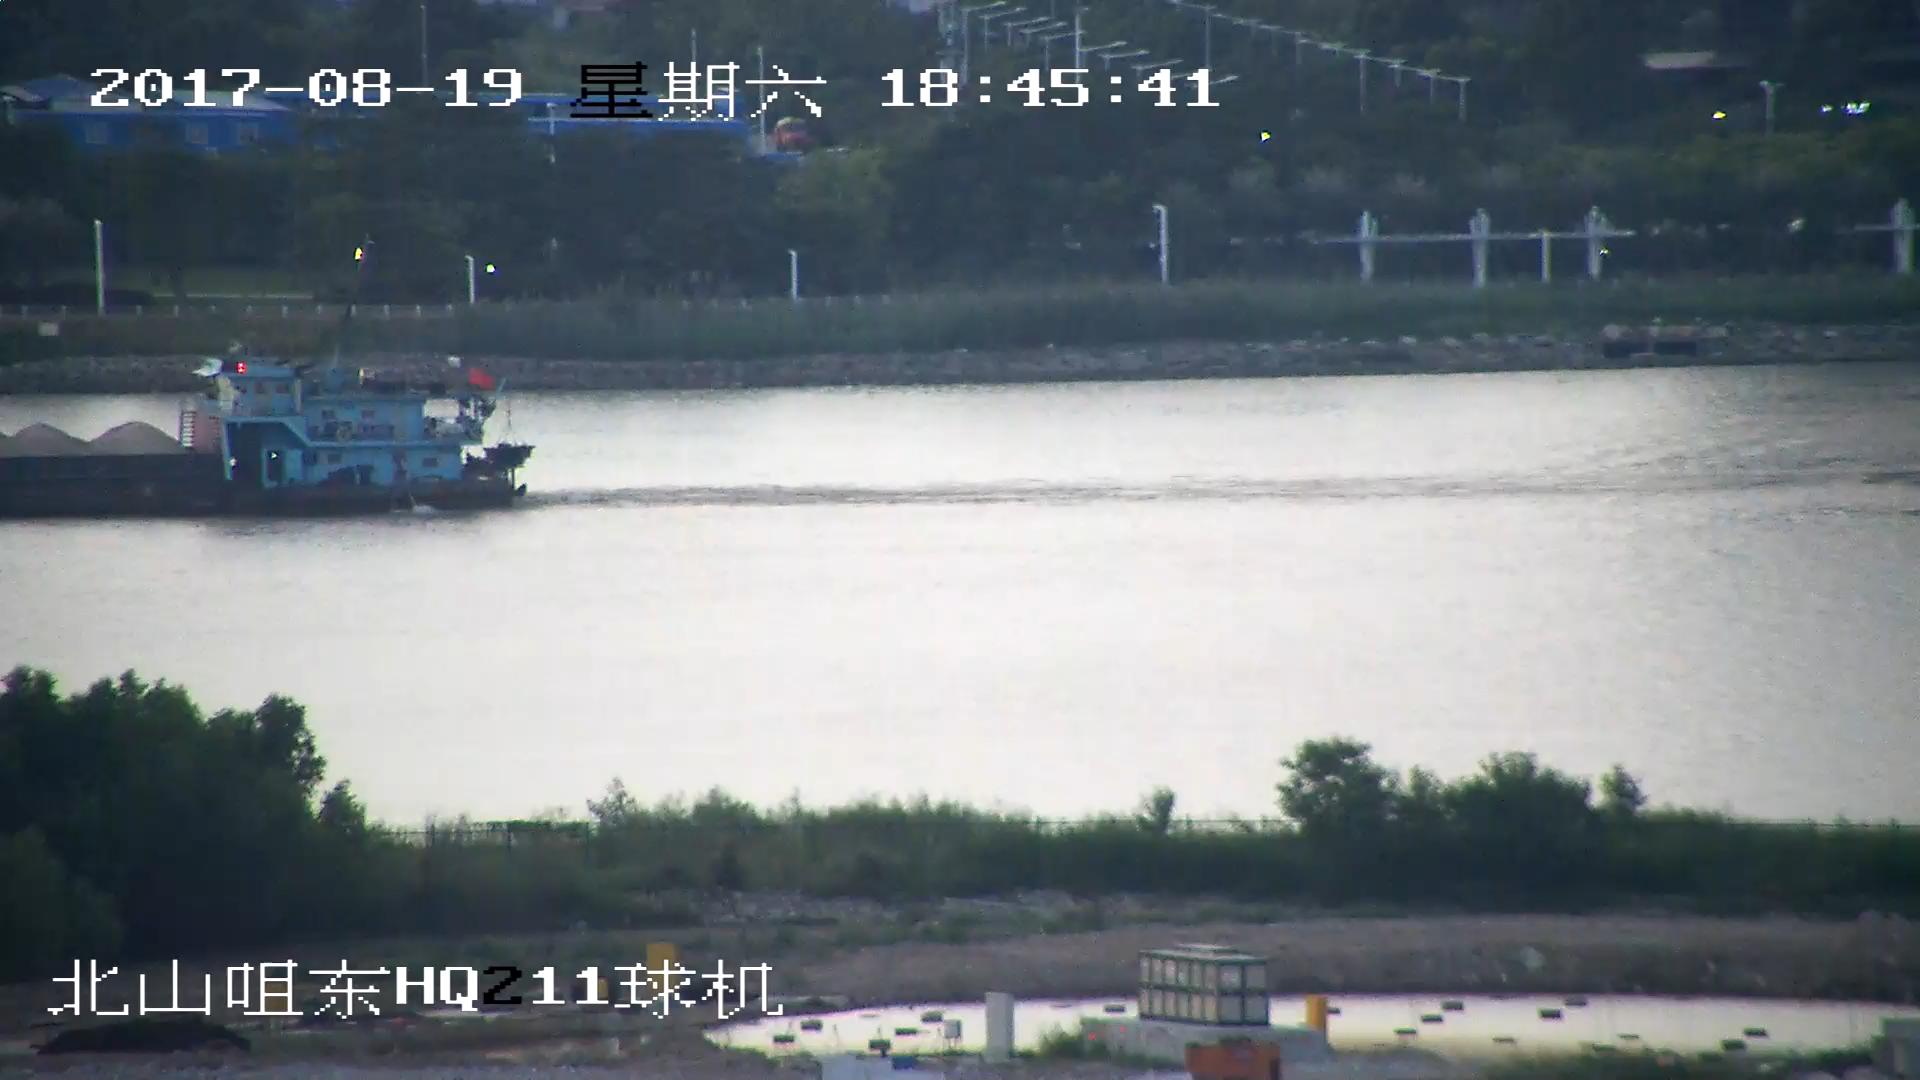ore carrier: (1, 344, 534, 514)
